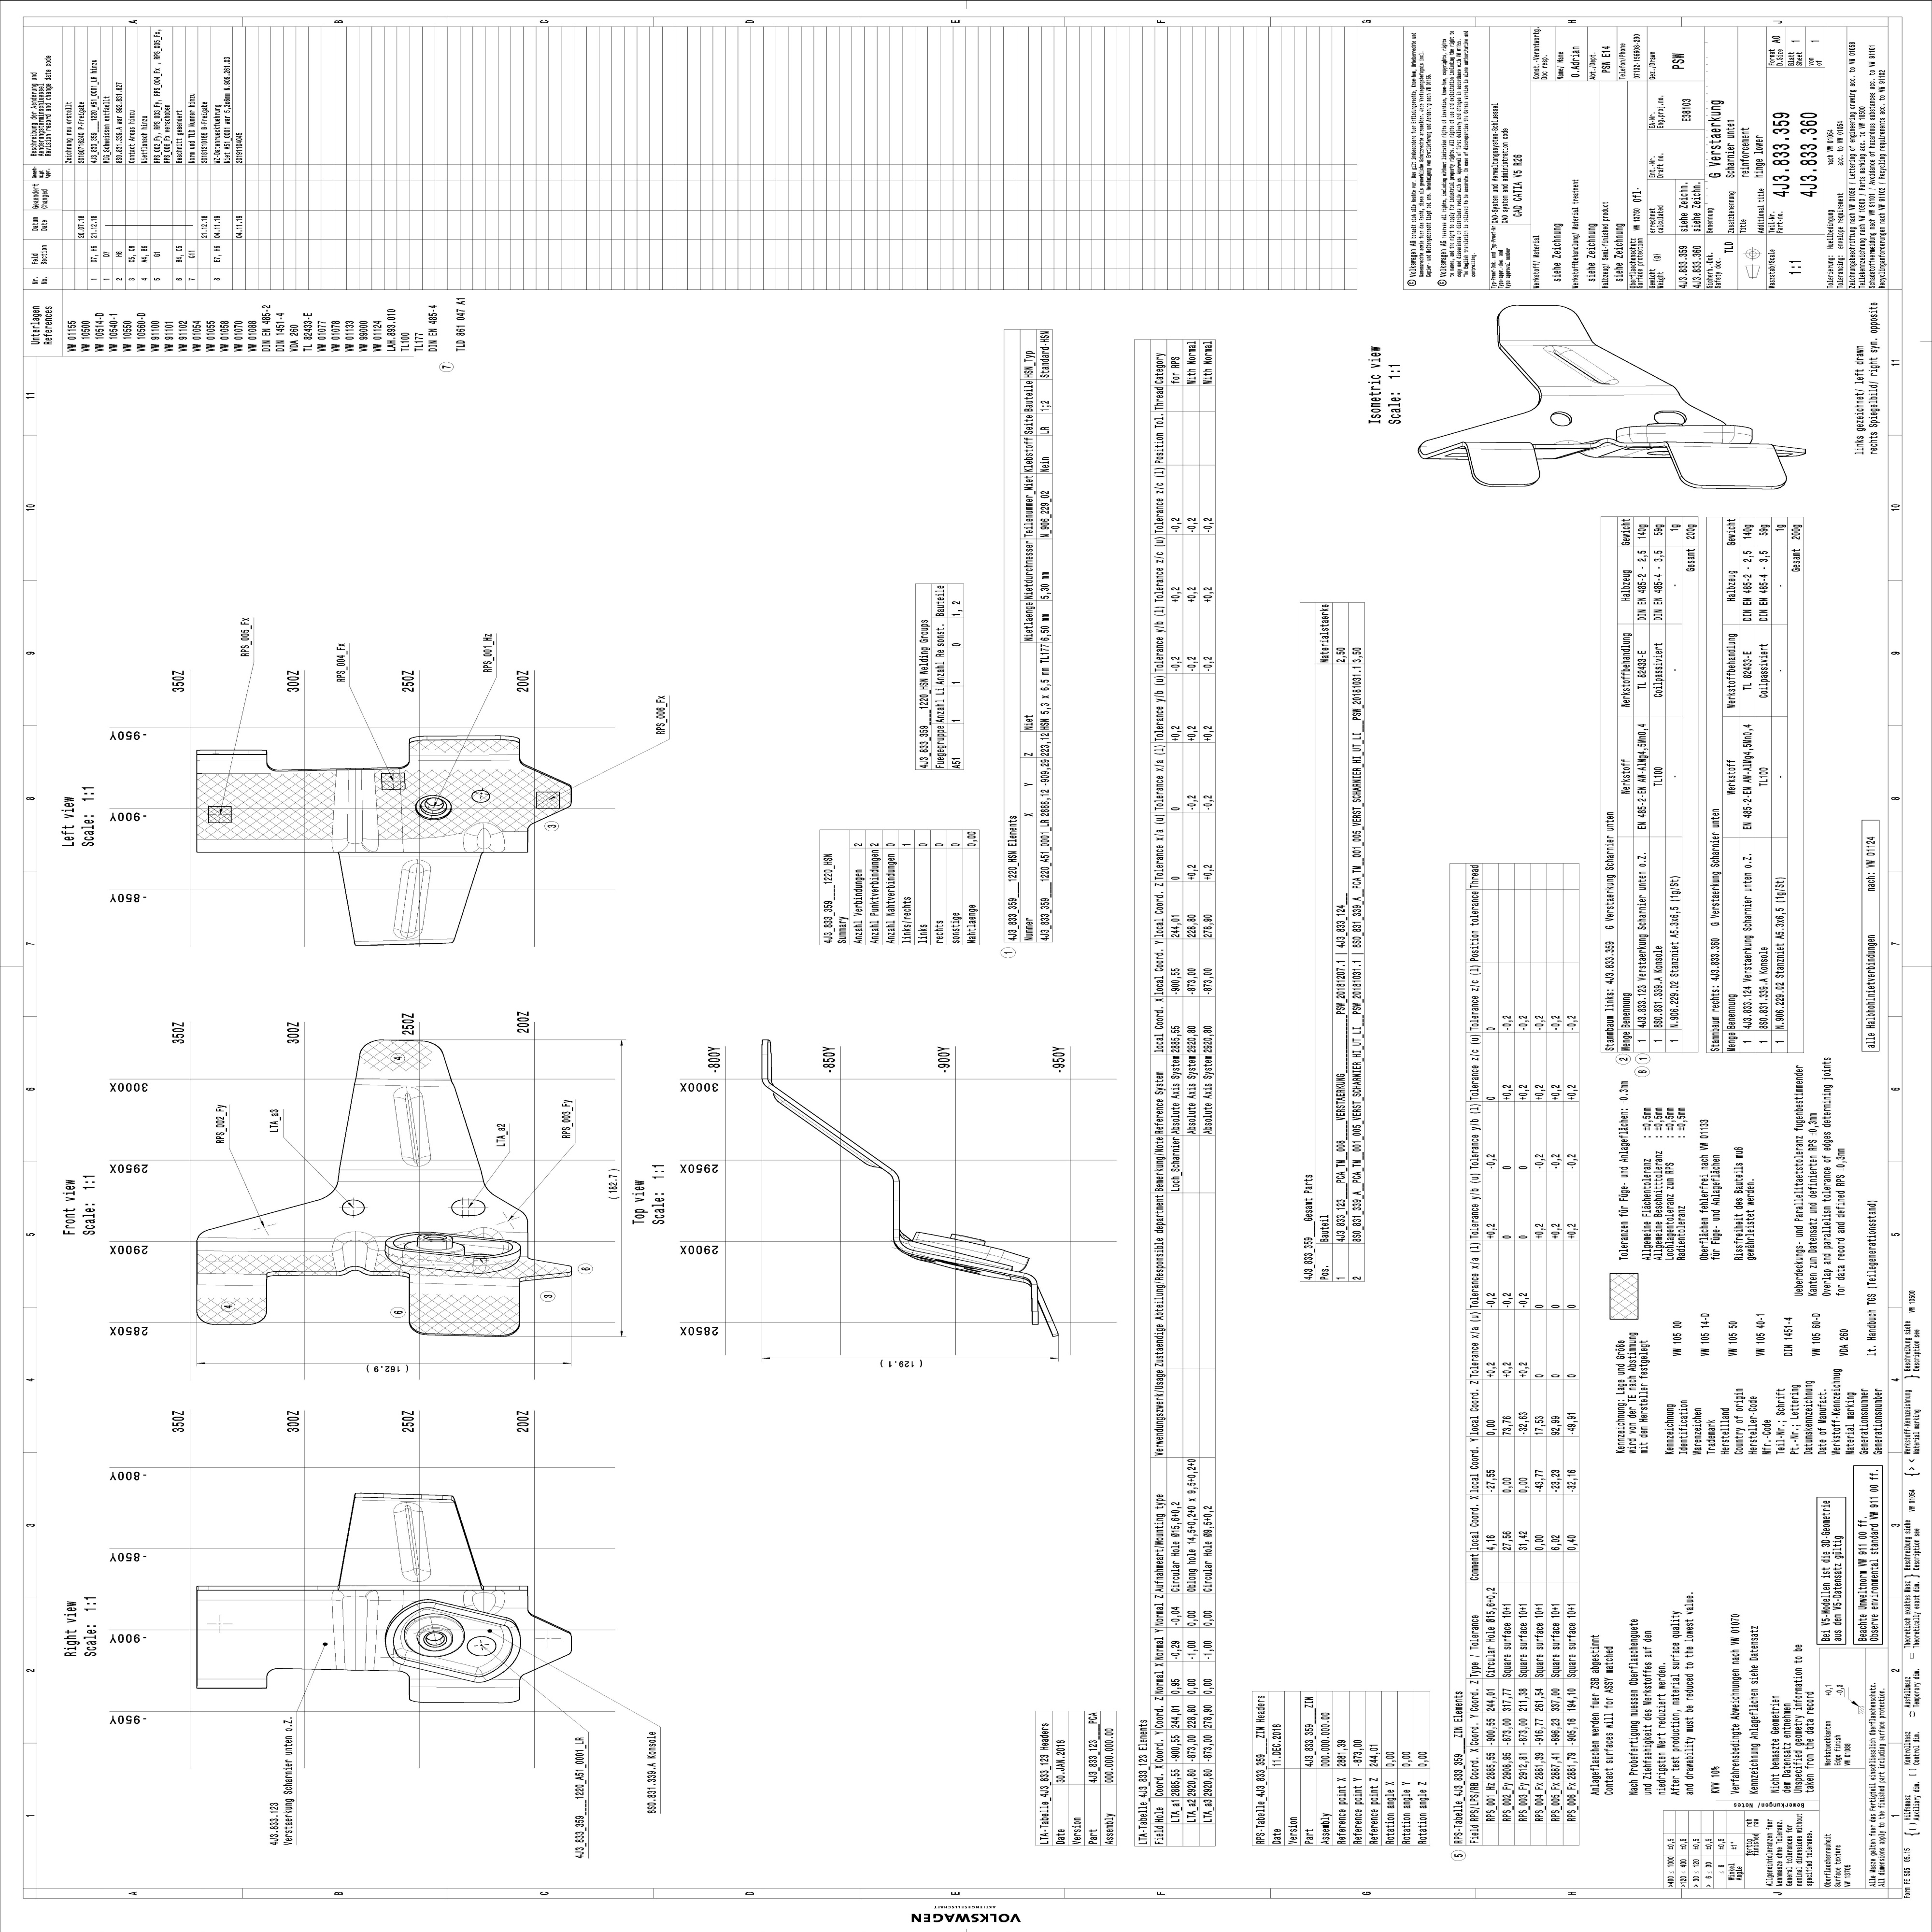Embossment: (1537, 331, 1624, 402), (389, 851, 439, 945), (387, 1081, 437, 1173), (387, 1497, 437, 1587), (333, 768, 380, 853), (329, 1589, 377, 1670)
InnerContour: (446, 1192, 490, 1223), (1645, 409, 1693, 426), (340, 1192, 370, 1217), (471, 784, 497, 810), (1545, 409, 1573, 430)
Reinforcement: (327, 1230, 382, 1277), (462, 1580, 508, 1617), (462, 823, 508, 855)
ThroughHole: (423, 1629, 449, 1652)
